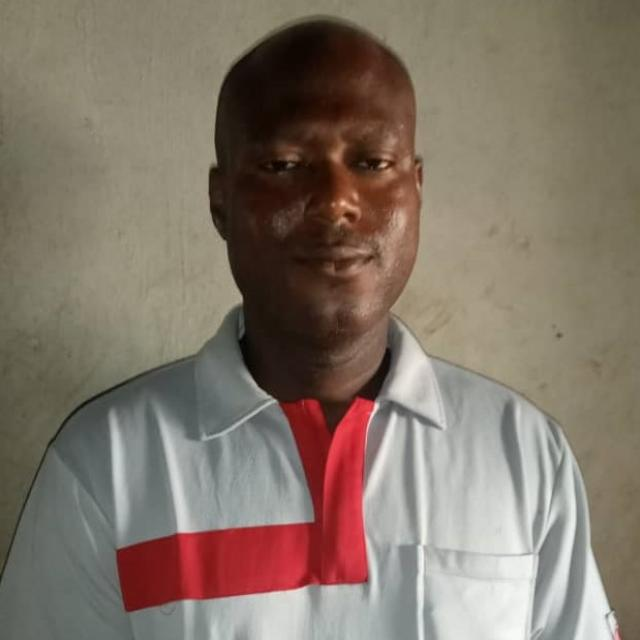happy: (210, 4, 436, 343)
